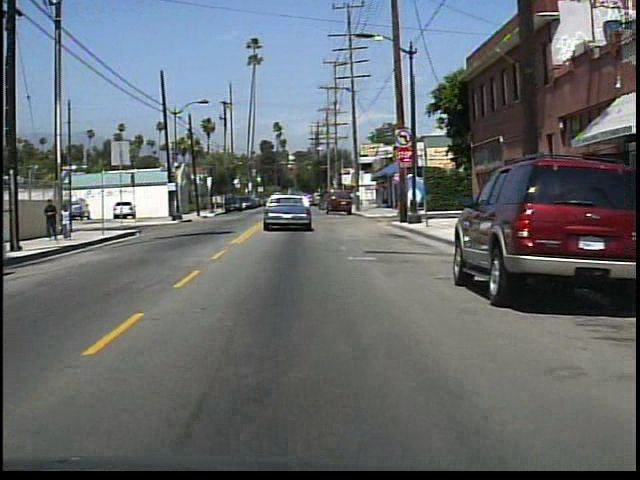person: (46, 198, 64, 242), (59, 201, 78, 241)
